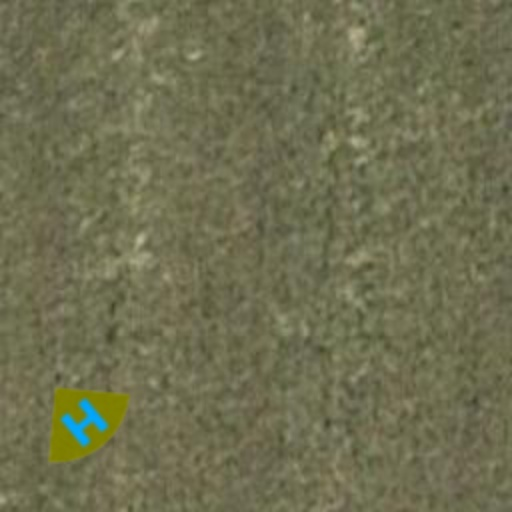quarter_circle: (12, 350, 156, 494)
